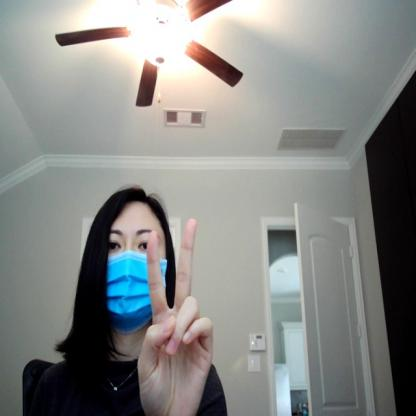two: (140, 221, 214, 415)
